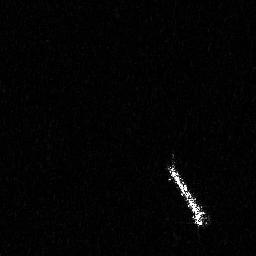ship: (164, 152, 211, 232)
